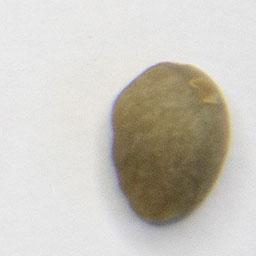premium: (108, 58, 233, 227)
